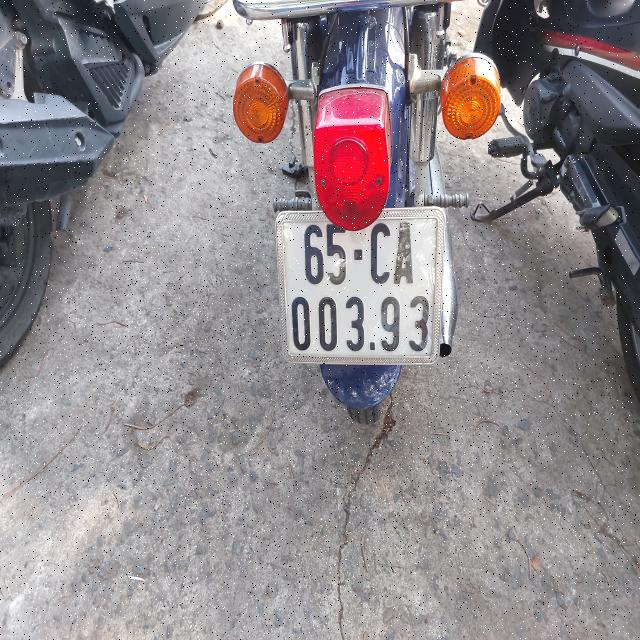0: (314, 294, 340, 355), (289, 293, 313, 353)
3: (344, 293, 366, 353), (409, 294, 429, 352)
5: (326, 221, 352, 287)
6: (302, 223, 326, 287)
9: (380, 295, 402, 352)
A: (393, 220, 416, 288)
C: (370, 220, 392, 286)
